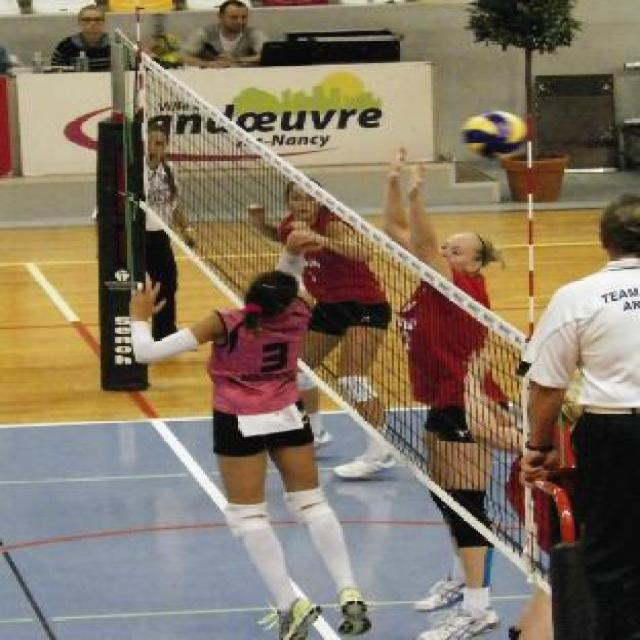volleyball: (462, 111, 528, 159)
